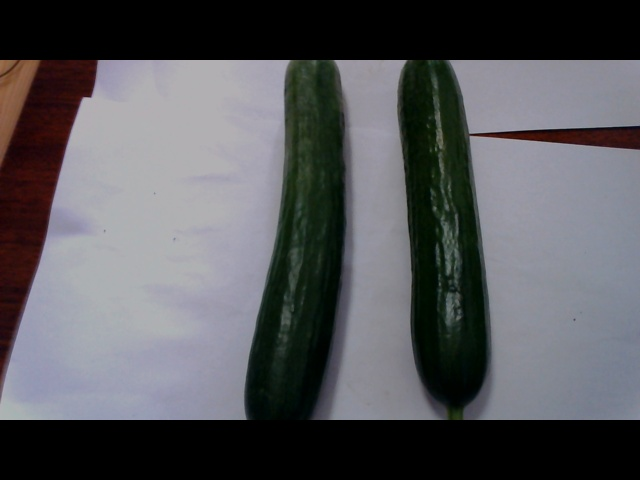cucumber: (383, 60, 496, 417), (241, 59, 347, 420)
